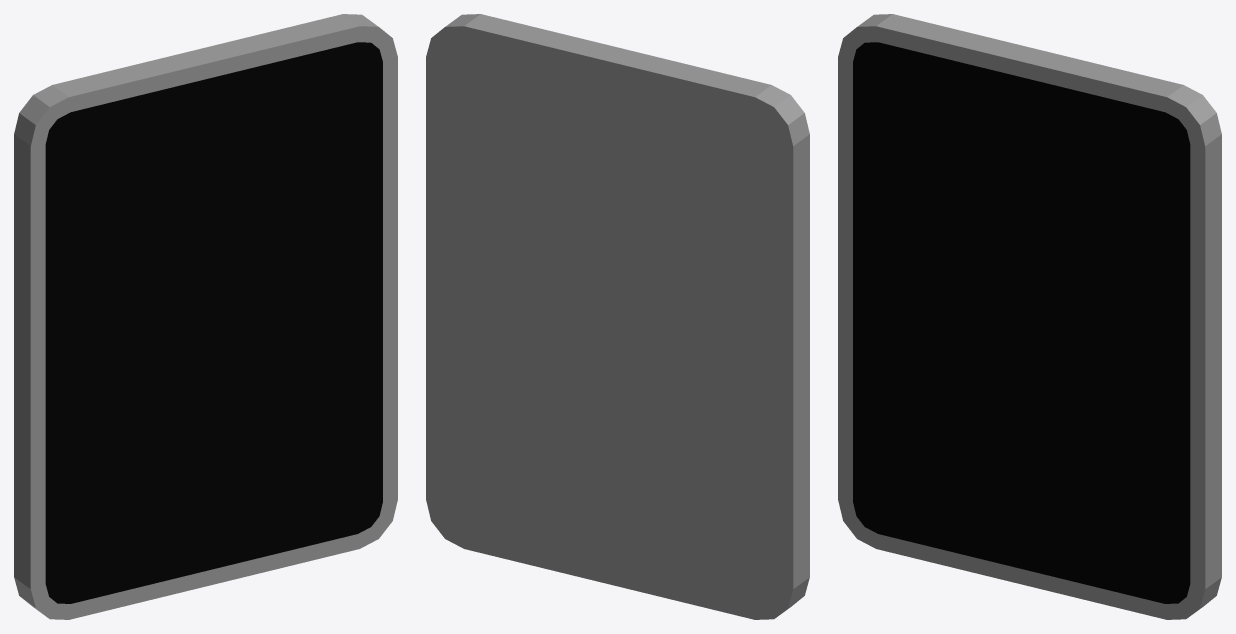
File: Display Scan.fbx
3 views of the same model, side by side, from view 1: azimuth 30°, elevation 25°; view 2: azimuth 150°, elevation 25°; view 3: azimuth 330°, elevation 25° (orthographic).
Parts seen in each view (by area): view 1: Display scan; view 2: Display scan; view 3: Display scan.
Boxes of the visible parts, box(x1,y1,x2,y2) form: Display scan: box(14, 14, 397, 619); Display scan: box(426, 14, 809, 619); Display scan: box(838, 14, 1221, 619).
Size of the model in its own units: 39.11 by 53.21 by 3.09.
